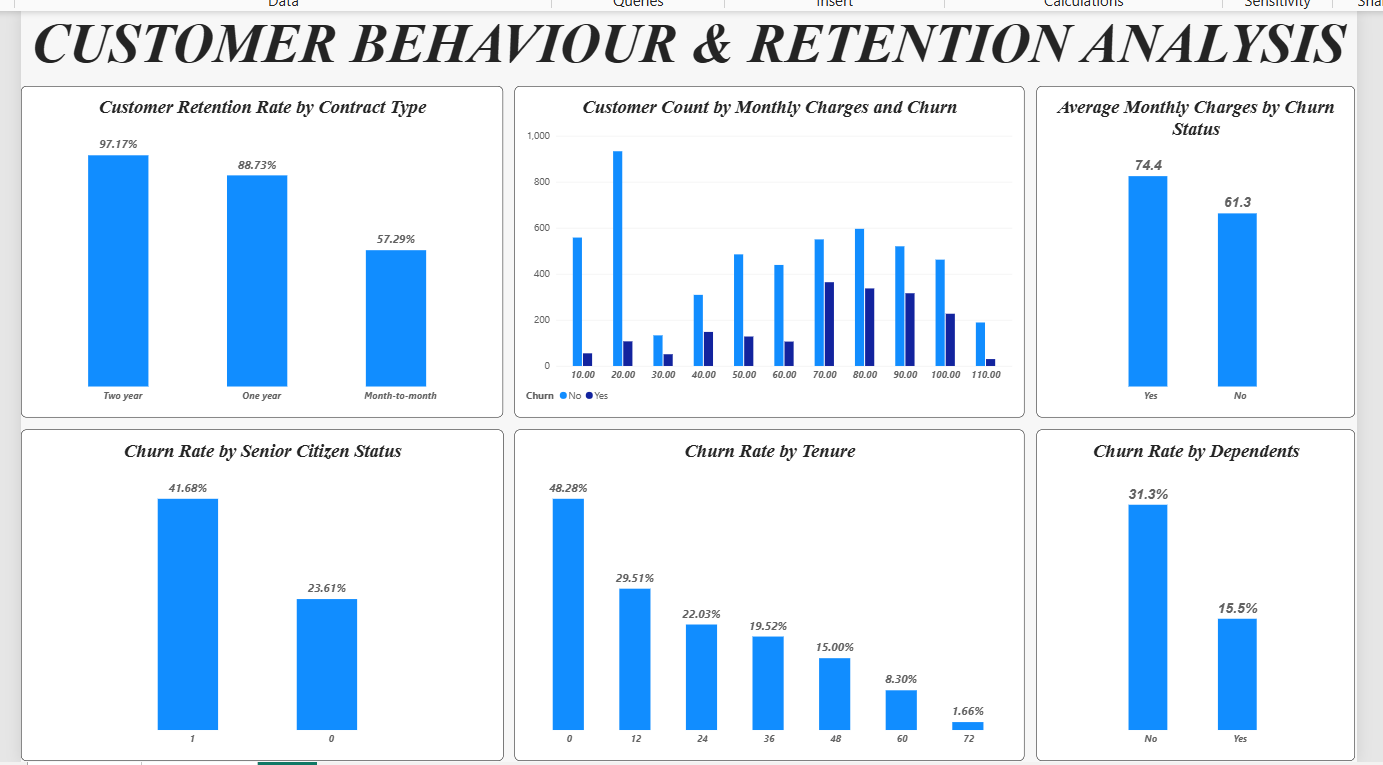

This screenshot's page, from the dashboard's own definition file:
{"tool":"powerbi","page":{"name":"Page 2","canvas":[1920,1080],"ordinal":1},"visuals":[{"type":"clusteredColumnChart","title":"Customer Count by Monthly Charges and Churn","fields":{"Category":["Telco_Churn_Cleaned.MonthlyCharges (bins)"],"Series":["Telco_Churn_Cleaned.Churn"],"Y":["CountNonNull(Telco_Churn_Cleaned.customerID)"]},"box":[709.5,107.3,733,477],"z":0},{"type":"clusteredColumnChart","title":"Churn Rate by Tenure","fields":{"Category":["Telco_Churn_Cleaned.tenure (bins)"],"Y":["Telco_Churn_Cleaned.Churn Rate by Service"]},"box":[709.5,602.2,733.1,476.5],"z":1},{"type":"clusteredColumnChart","title":"Customer Retention Rate by Contract Type","fields":{"Category":["Telco_Churn_Cleaned.Contract"],"Y":["Telco_Churn_Cleaned.Retention Rate"]},"box":[0,107.3,693,476.5],"z":2},{"type":"clusteredColumnChart","title":"Churn Rate by Senior Citizen Status","fields":{"Category":["Telco_Churn_Cleaned.SeniorCitizen"],"Y":["Telco_Churn_Cleaned.Churn Rate by Service"]},"box":[0,602.2,693.8,476.5],"z":3},{"type":"clusteredColumnChart","title":"Average Monthly Charges by Churn Status","fields":{"Category":["Telco_Churn_Cleaned.Churn"],"Y":["Avg(Telco_Churn_Cleaned.MonthlyCharges)"]},"box":[1461,107.3,458.2,476.5],"z":4},{"type":"clusteredColumnChart","title":"Churn Rate by Dependents","fields":{"Category":["Telco_Churn_Cleaned.Dependents"],"Y":["Telco_Churn_Cleaned.Churn Rate by Service"]},"box":[1461,602.2,458.2,476.5],"z":5},{"type":"textbox","box":[0,0,1919.1,130.9],"z":6}]}

Visuals, with their boxes on the page's 1920x1080 design canvas (x1, y1, x2, y2). These are canvas units, not pixel positions in the 1383x765 screenshot, which may show the page scaled, cropped or inside an application window:
"Customer Count by Monthly Charges and Churn" clusteredColumnChart: 710, 107, 1442, 584
"Churn Rate by Tenure" clusteredColumnChart: 710, 602, 1443, 1079
"Customer Retention Rate by Contract Type" clusteredColumnChart: 0, 107, 693, 584
"Churn Rate by Senior Citizen Status" clusteredColumnChart: 0, 602, 694, 1079
"Average Monthly Charges by Churn Status" clusteredColumnChart: 1461, 107, 1919, 584
"Churn Rate by Dependents" clusteredColumnChart: 1461, 602, 1919, 1079
textbox: 0, 0, 1919, 131
